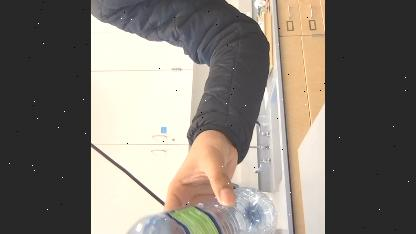Plastic Bottle: (94, 179, 280, 234)
